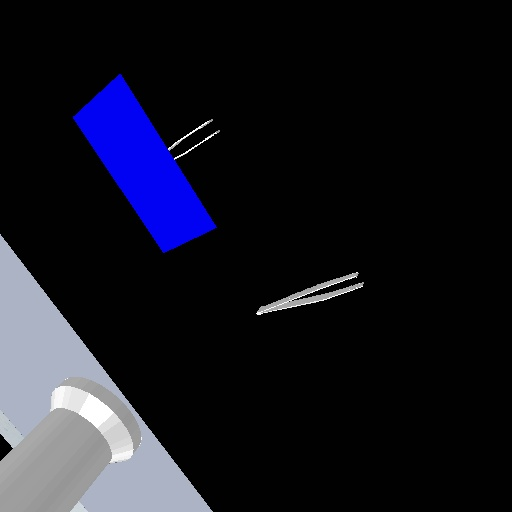pinza: (253, 268, 368, 318), (165, 115, 223, 161)
